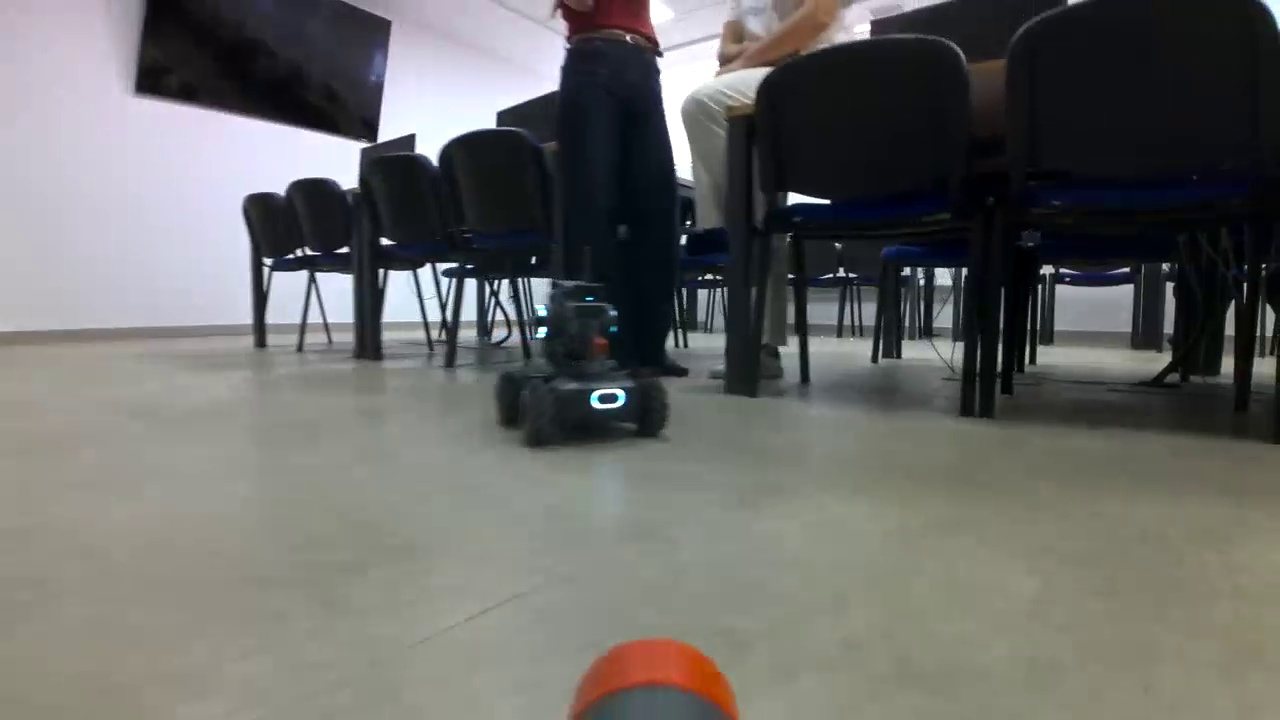robot: (496, 279, 671, 449)
